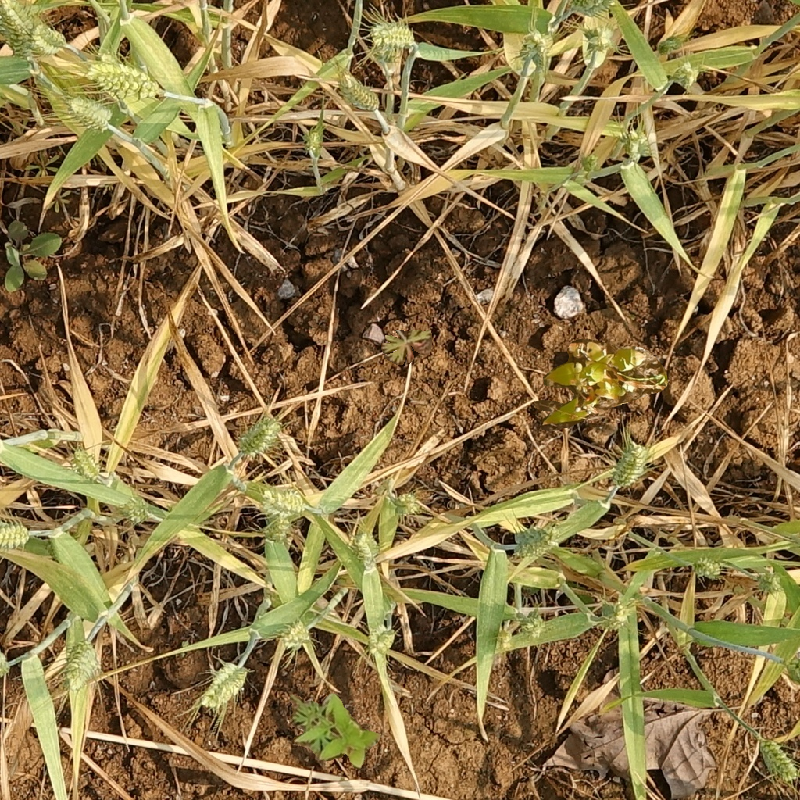spikelet: (86, 55, 160, 100), (199, 661, 247, 710), (61, 638, 101, 692), (609, 438, 650, 490), (1, 1, 39, 54), (335, 70, 381, 112), (65, 92, 115, 130), (758, 737, 799, 783), (236, 416, 281, 457), (516, 27, 555, 74), (512, 522, 558, 560), (367, 18, 416, 51), (259, 484, 307, 517), (579, 24, 614, 67), (30, 21, 68, 55), (351, 530, 381, 571), (666, 54, 701, 89), (595, 597, 629, 633), (278, 618, 313, 652), (386, 488, 424, 519), (69, 446, 101, 482), (622, 127, 653, 163), (365, 622, 396, 656), (1, 517, 32, 550), (516, 608, 547, 640), (691, 551, 725, 580), (121, 494, 153, 524), (753, 563, 781, 595), (577, 149, 604, 181), (565, 1, 616, 16), (303, 126, 324, 162)
weed: (544, 340, 673, 434), (290, 694, 387, 773), (381, 330, 432, 365)
